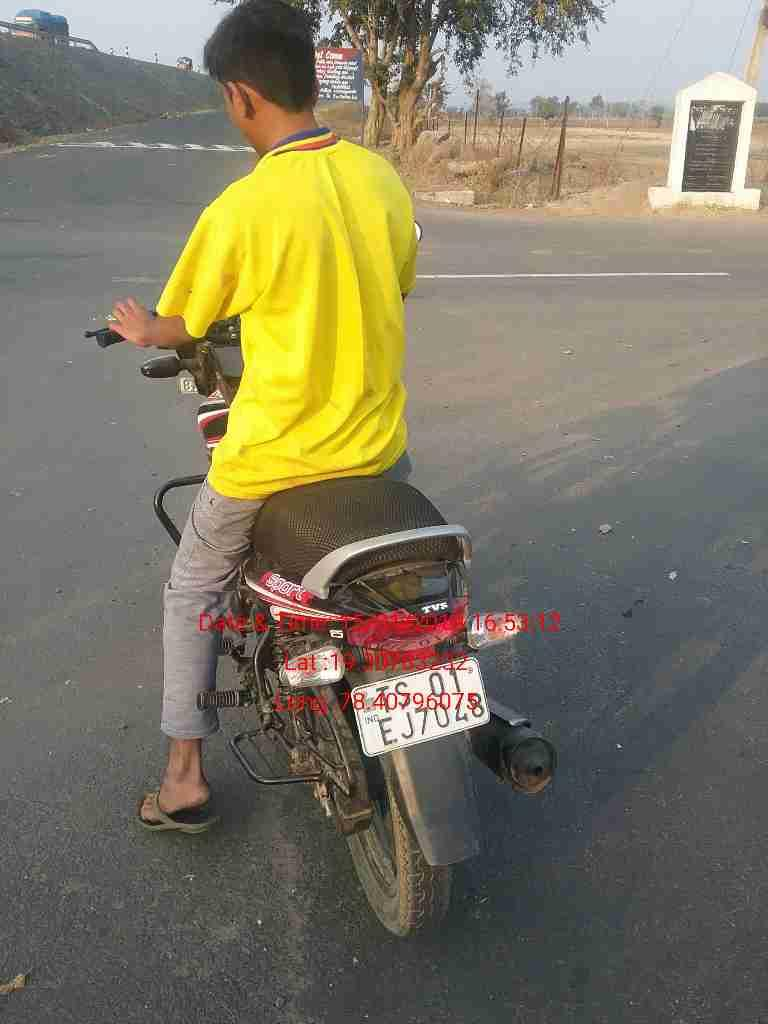plate: (340, 657, 508, 755)
